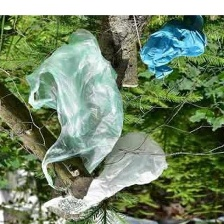plastic_bag: (20, 26, 130, 194), (40, 127, 169, 217), (134, 12, 214, 83)
